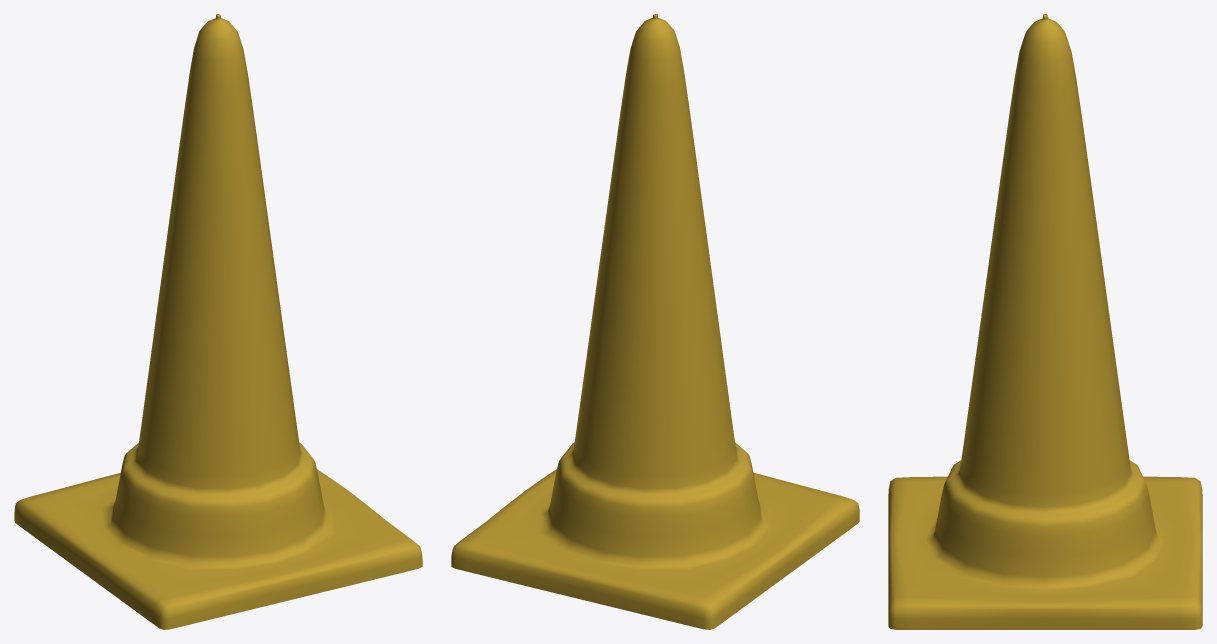
The model's file is ColorCone_Basic_Yellow_NoWeight.fbx.
3 views of the same model, side by side, from view 1: azimuth 30°, elevation 25°; view 2: azimuth 150°, elevation 25°; view 3: azimuth 270°, elevation 25° (orthographic). The views are drawn at different scales.
Parts seen in each view (by area): view 1: ColorCone_Basic_Yellow_NoWeight; view 2: ColorCone_Basic_Yellow_NoWeight; view 3: ColorCone_Basic_Yellow_NoWeight.
Part boxes in pixels (bbox=[...]): ColorCone_Basic_Yellow_NoWeight: bbox=[14, 14, 422, 629]; ColorCone_Basic_Yellow_NoWeight: bbox=[451, 14, 859, 629]; ColorCone_Basic_Yellow_NoWeight: bbox=[888, 14, 1202, 629].
Size of the model in its own units: 38 by 38 by 73.14.
1 material, 1 textured.
